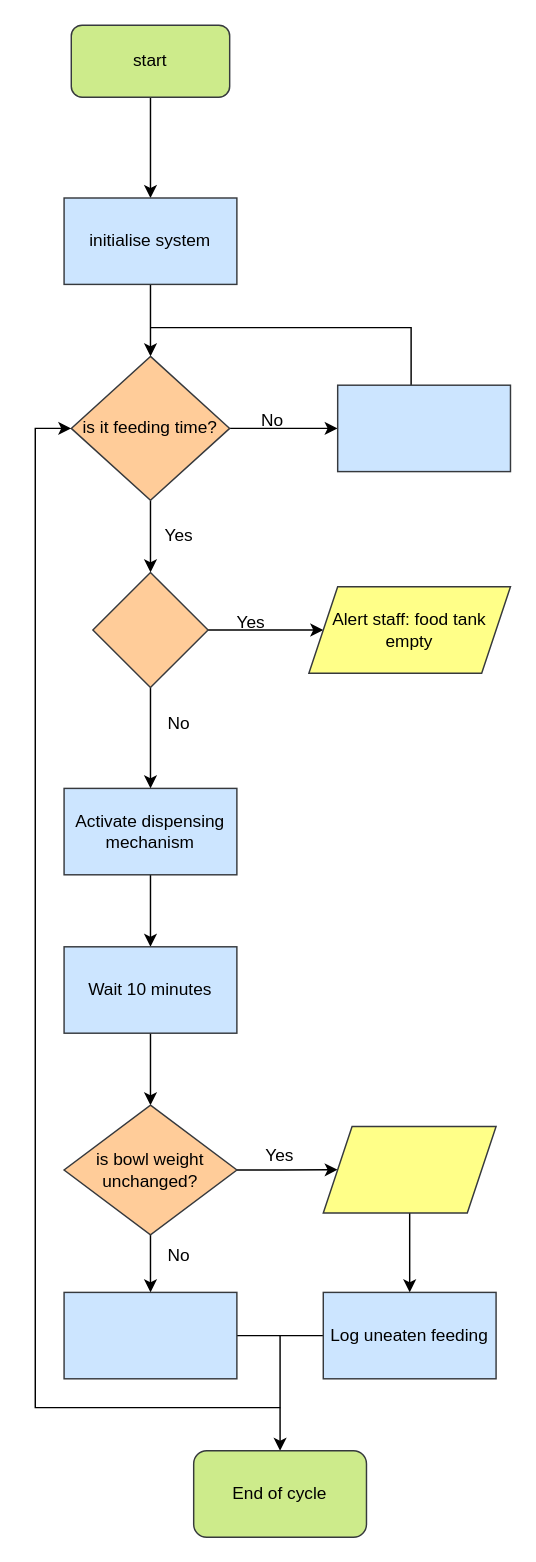
Image size: 536x1562. Some labels were removed from this diagram. Here are the shapes that lost their labels. From the top down, the box of each, then its label:
(336, 384, 510, 472): wait for next cycle
(91, 571, 208, 688): is food storage tank empty?
(322, 1125, 496, 1213): Alert staff: food uneaten
(63, 1291, 237, 1379): Log successful feeding
